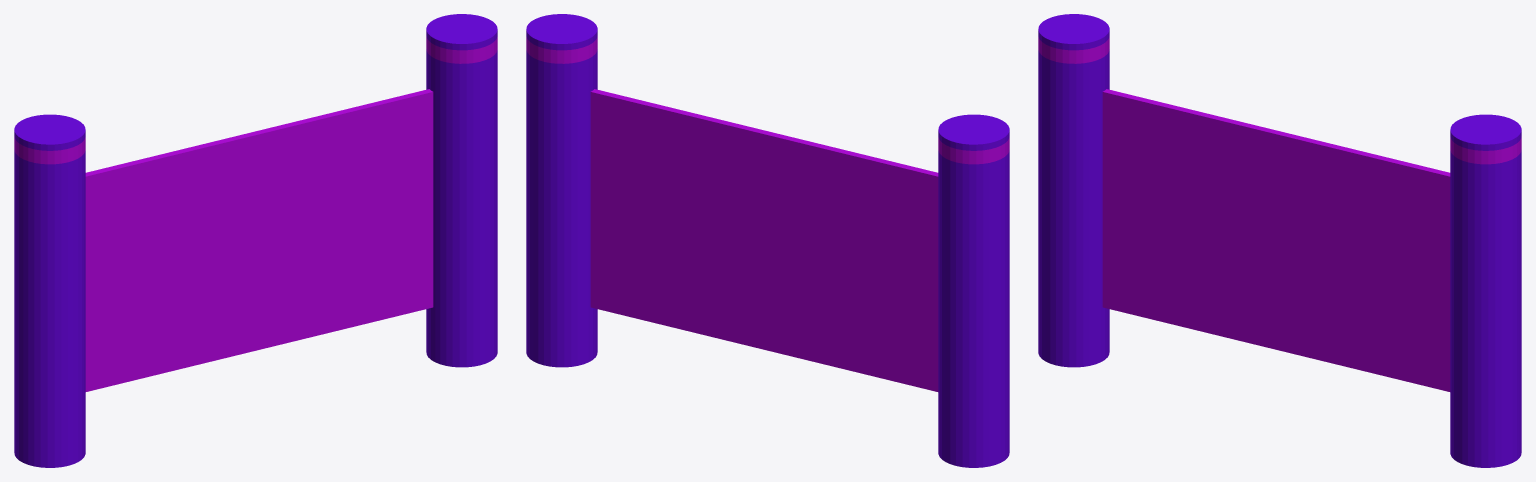
The model's file is Router.fbx.
3 renders of one model, left to right at view 1: azimuth 30°, elevation 25°; view 2: azimuth 150°, elevation 25°; view 3: azimuth 330°, elevation 25°, orthographic.
Parts seen in each view (by area): view 1: Cylinder; view 2: Cylinder; view 3: Cylinder.
Boxes of the visible parts, x1=… form: Cylinder: x1=14, y1=14, x2=497, y2=467; Cylinder: x1=526, y1=14, x2=1009, y2=467; Cylinder: x1=1038, y1=14, x2=1521, y2=467.
Bounding box in the file's own units: 690 × 450 × 90.
